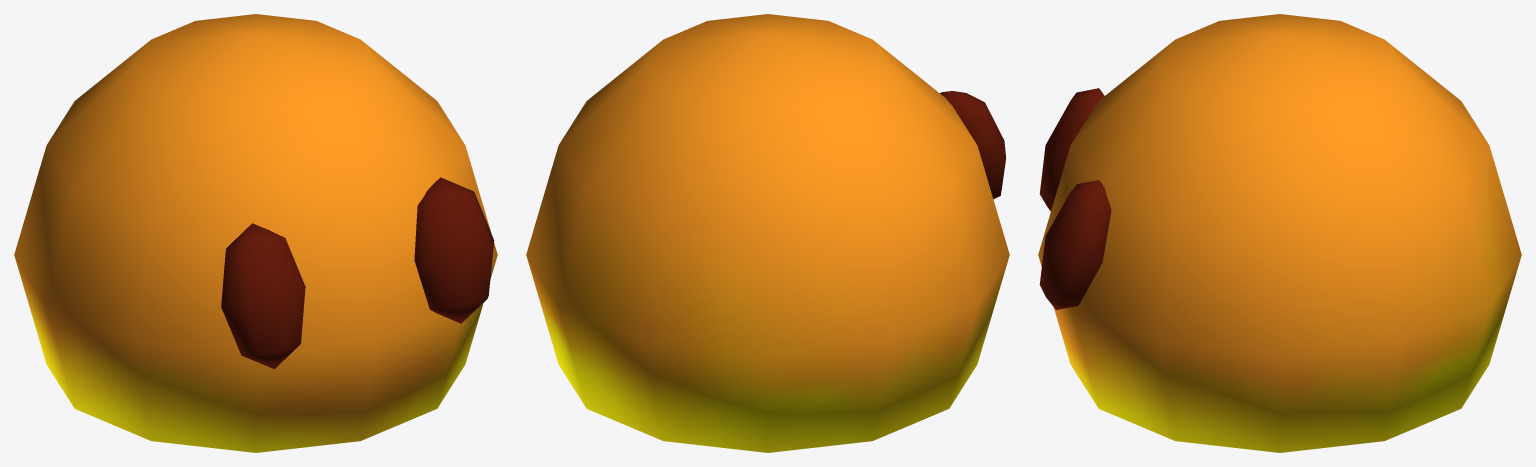
File: LavaHopper.fbx
3 views of the same model, side by side, from view 1: azimuth 30°, elevation 25°; view 2: azimuth 150°, elevation 25°; view 3: azimuth 270°, elevation 25° (orthographic).
Parts seen in each view (by area): view 1: Sphere; view 2: Sphere; view 3: Sphere.
Boxes of the visible parts, x1=… form: Sphere: x1=14, y1=14, x2=497, y2=452; Sphere: x1=526, y1=14, x2=1009, y2=452; Sphere: x1=1038, y1=14, x2=1521, y2=452.
Bounding box in the file's own units: 200 × 150 × 200.
2 materials, 1 textured.
